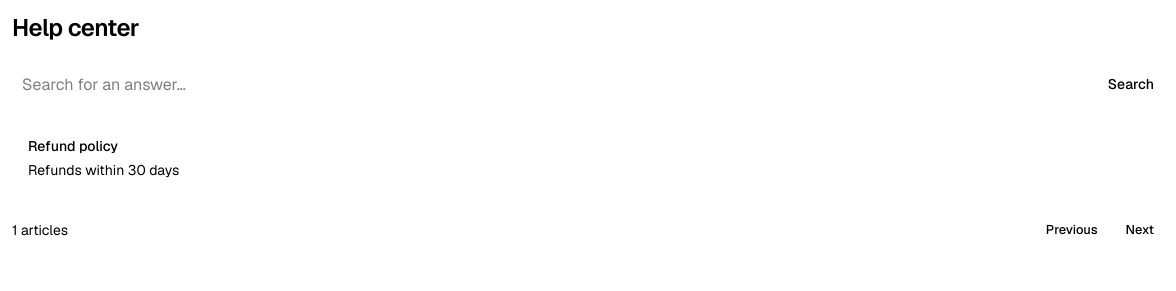
it: help center › browses, searches, shows no-results and opens an article as plain text
Expected: the text "Refund policy" is shown, [28,137,118,155]
In the field named "Search articles": (551, 84) [12,68,1090,100], type "zzz"
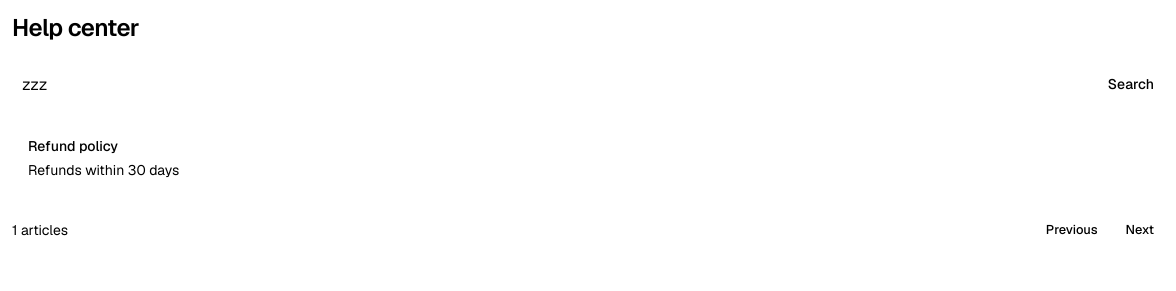
Click the button "Search": (1131, 84) [1098,68,1164,100]
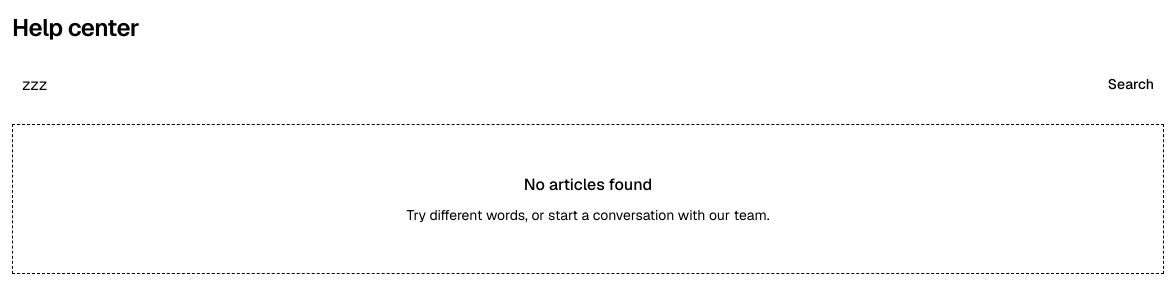
Expected: the heading "No articles found" is shown, [524,173,652,197]
